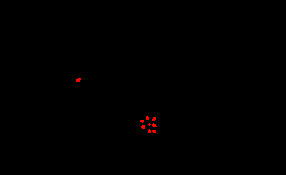Target: (76, 78, 81, 82), (152, 123, 157, 127), (152, 117, 156, 121), (141, 125, 145, 129), (146, 116, 149, 120), (140, 120, 144, 123), (148, 129, 151, 133), (152, 130, 156, 133), (148, 123, 151, 126)
